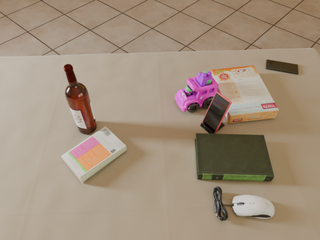book: (195, 133, 274, 181), (61, 127, 127, 183)
bottle: (64, 64, 96, 134)
box: (211, 66, 279, 123)
mouse: (230, 195, 275, 219)
phone: (202, 92, 232, 133), (266, 60, 298, 74)
toy_car: (175, 71, 219, 112)
